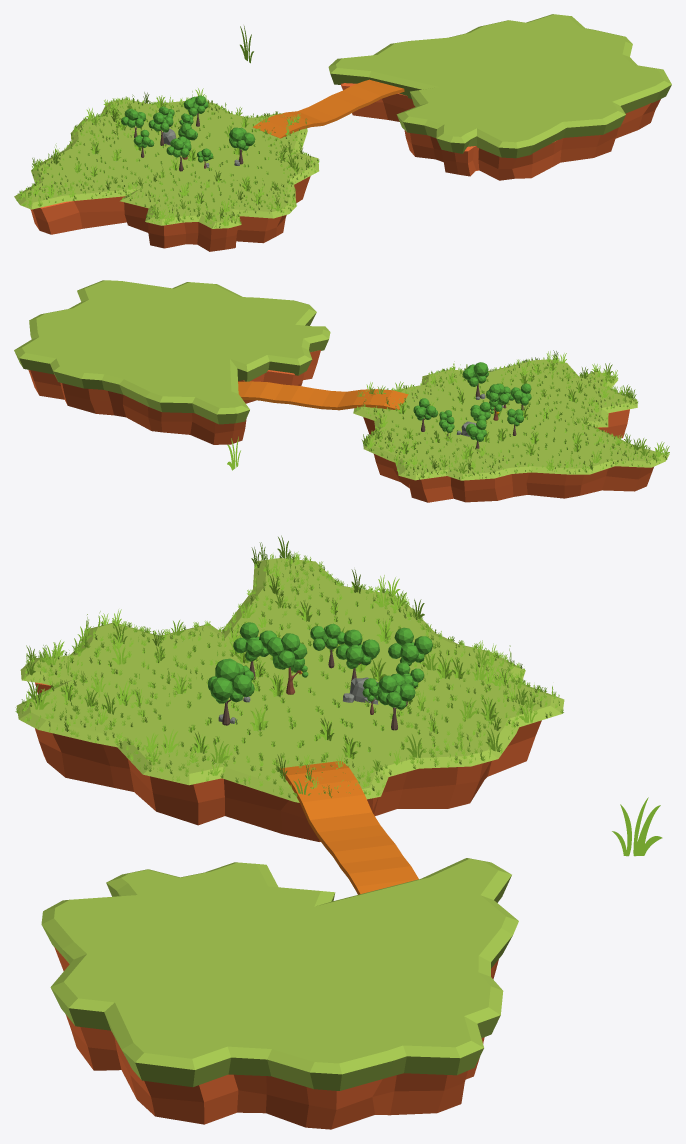
File: islasblender.fbx
3 views of the same model, one above another, from view 1: azimuth 30°, elevation 25°; view 2: azimuth 150°, elevation 25°; view 3: azimuth 270°, elevation 25° (orthographic). The views are drawn at different scales.
Parts seen in each view (by area): view 1: Plane.005, Plane.010, Plane.004, Plane.006, Plane.008, hojas1, hojas3, hojas3.005, hojas3.001; view 2: Plane.005, Plane.010, Plane.006, Plane.004, Plane.008, hojas1, hojas2, hojas3, hojas3.005, hojas3.001; view 3: Plane.005, Plane.010, Plane.006, Plane.004, Plane.008, hojas1, hojas2, hojas3.002, hojas3.005, Plane.009, hojas3.001, hojas3.
Part boxes in pixels (x1,y1,x2,y2): Plane.005: (328,14,671,158); Plane.010: (14,99,319,228); Plane.004: (340,83,660,180); Plane.006: (30,176,310,251); Plane.008: (253,79,404,138); hojas1: (229,127,255,150); hojas3: (183,95,208,116); hojas3.005: (121,108,145,127); hojas3.001: (166,138,191,157); Plane.005: (14,280,330,424); Plane.010: (353,359,668,480); Plane.006: (363,409,653,502); Plane.004: (28,350,320,444); Plane.008: (238,381,408,410); hojas1: (462,362,488,386); hojas2: (486,383,509,413); hojas3: (413,398,438,420); hojas3.005: (465,419,486,441); hojas3.001: (510,383,531,405); Plane.005: (41,858,518,1090); Plane.010: (16,558,564,802); Plane.006: (35,682,541,841); Plane.004: (54,947,498,1129); Plane.008: (280,761,418,894); hojas1: (208,658,254,703); hojas2: (266,633,308,677); hojas3.002: (335,629,379,668); hojas3.005: (388,627,432,665); Plane.009: (612,797,662,856); hojas3.001: (233,622,276,661); hojas3: (377,673,415,709).
Size of the model in its own units: 21619 by 2581 by 11515.
